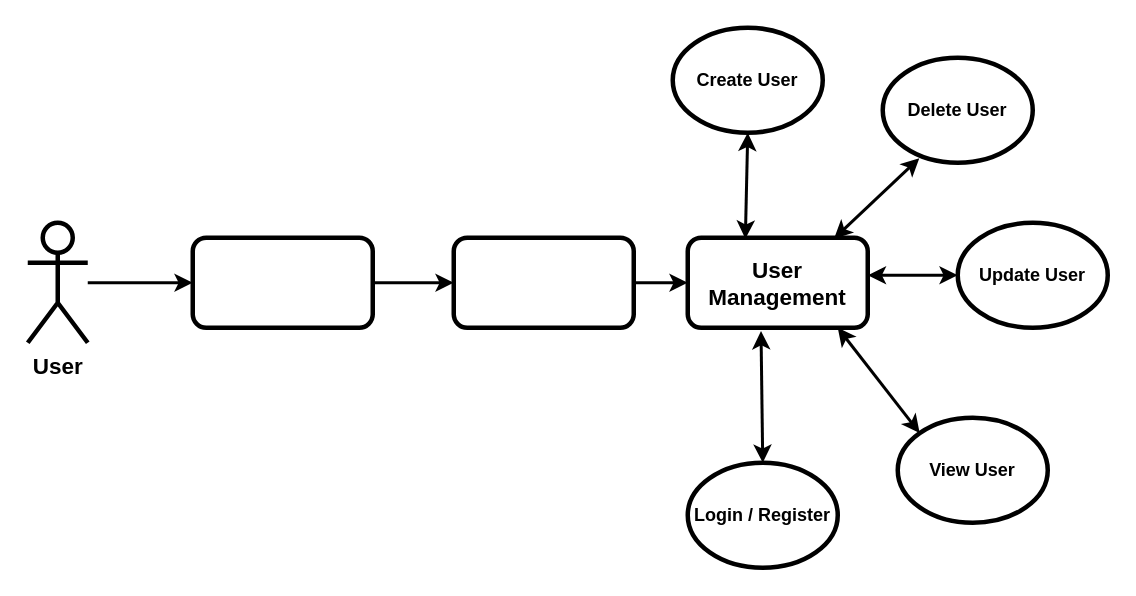
This 1136x596 diagram has some shape labels left out. The shapes that lost their labels are listed below. From the top down, each one's box as (x1, y1, x2, y2) in pixels, then its label:
(190, 235, 374, 329): System
(451, 235, 635, 329): Rest API Getway
